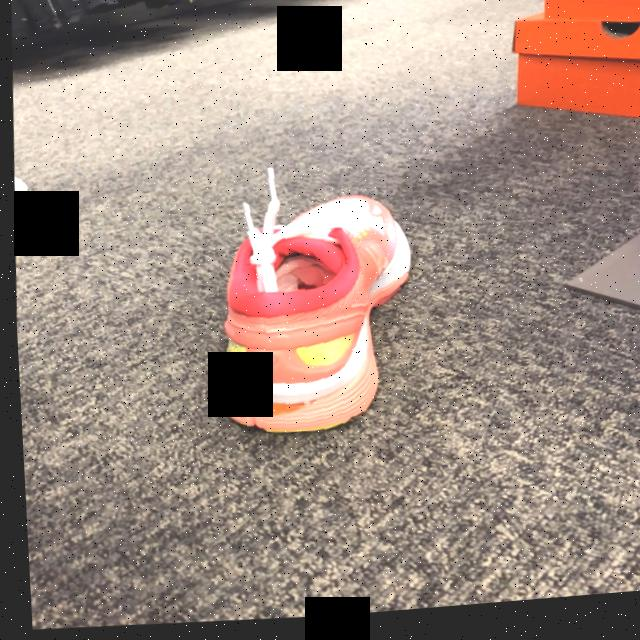shoe: (215, 182, 410, 437)
